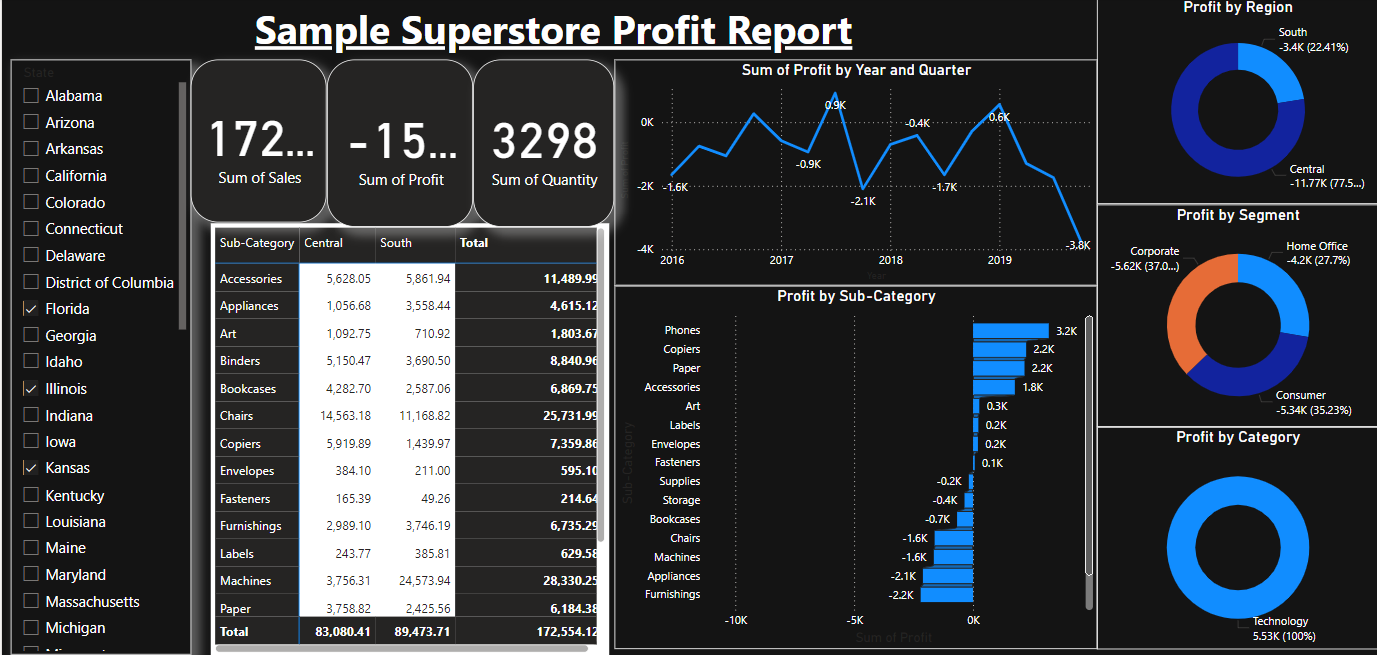

Layout of this report page (visuals, bound fields, positions):
{"tool":"powerbi","page":{"name":"Page 1","canvas":[1500,720],"ordinal":0},"visuals":[{"type":"textbox","box":[9.7,0,1183.5,68.8],"z":0},{"type":"donutChart","title":"Profit by Category","fields":{"Category":["Orders.Category"],"Y":["Sum(Orders.Profit)"]},"box":[1193.2,468.1,306.4,242.5],"z":1000},{"type":"donutChart","title":"Profit by Segment","fields":{"Y":["Sum(Orders.Profit)"],"Category":["Orders.Segment"]},"box":[1193.2,225.6,306.4,242.5],"z":2000},{"type":"donutChart","title":"Profit by Region","fields":{"Y":["Sum(Orders.Profit)"],"Category":["Orders.Region"]},"box":[1193.2,0,306.4,225.6],"z":3000},{"type":"barChart","title":"Profit by Sub-Category","fields":{"Y":["Sum(Orders.Profit)"],"Category":["Orders.Sub-Category"]},"box":[667.2,314.9,526,395.7],"z":4000},{"type":"lineChart","fields":{"Category":["Orders.Order Date.Variation.Date Hierarchy.Year","Orders.Order Date.Variation.Date Hierarchy.Quarter","Orders.Order Date.Variation.Date Hierarchy.Month","Orders.Order Date.Variation.Date Hierarchy.Day"],"Y":["Sum(Orders.Profit)"]},"box":[667.2,68.8,526,246.1],"z":5000},{"type":"slicer","fields":{"Values":["Orders.State"]},"box":[9.7,68.8,196.6,649.1],"z":6000},{"type":"pivotTable","fields":{"Rows":["Orders.Sub-Category"],"Values":["Sum(Orders.Sales)"],"Columns":["Orders.Region"]},"box":[227.6,246.6,434.7,472.8],"z":7000},{"type":"card","fields":{"Values":["Sum(Orders.Sales)"]},"box":[206.3,68.8,148.4,177.3],"z":8000},{"type":"card","fields":{"Values":["Sum(Orders.Profit)"]},"box":[354.7,68.8,159.3,182.2],"z":9000},{"type":"card","fields":{"Values":["Sum(Orders.Quantity)"]},"box":[513.9,68.8,153.2,182.2],"z":10000}]}

Visuals, with their boxes in screenshot pixels (x1, y1, x2, y2), scaled from the page's 1500x720 canvas onto the 1377x655 screenshot:
textbox: {"x1": 9, "y1": 0, "x2": 1095, "y2": 63}
"Profit by Category" donutChart: {"x1": 1095, "y1": 426, "x2": 1376, "y2": 646}
"Profit by Segment" donutChart: {"x1": 1095, "y1": 205, "x2": 1376, "y2": 426}
"Profit by Region" donutChart: {"x1": 1095, "y1": 0, "x2": 1376, "y2": 205}
"Profit by Sub-Category" barChart: {"x1": 612, "y1": 286, "x2": 1095, "y2": 646}
lineChart - Orders.Order Date.Variation.Date Hierarchy.Year x Orders.Order Date.Variation.Date Hierarchy.Quarter: {"x1": 612, "y1": 63, "x2": 1095, "y2": 286}
slicer - Orders.State: {"x1": 9, "y1": 63, "x2": 189, "y2": 653}
pivotTable - Orders.Sub-Category x Sum(Orders.Sales): {"x1": 209, "y1": 224, "x2": 608, "y2": 654}
card - Sum(Orders.Sales): {"x1": 189, "y1": 63, "x2": 326, "y2": 224}
card - Sum(Orders.Profit): {"x1": 326, "y1": 63, "x2": 472, "y2": 228}
card - Sum(Orders.Quantity): {"x1": 472, "y1": 63, "x2": 612, "y2": 228}
